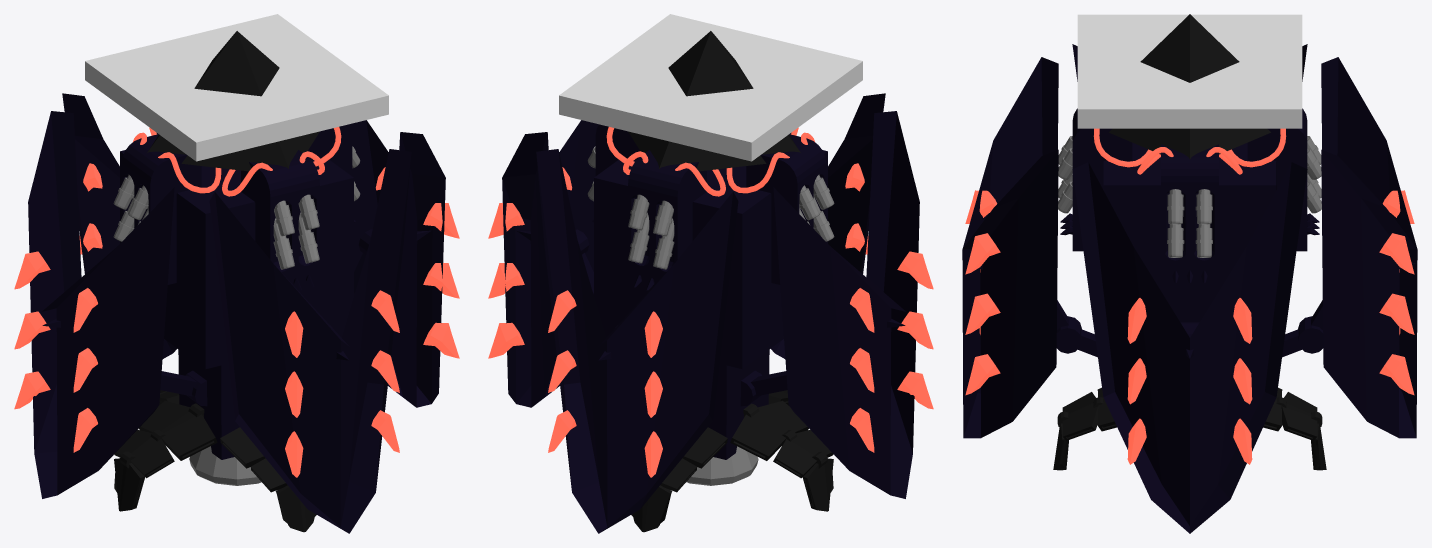
Rendered from BaseAmpli.fbx.
3 renders of one model, left to right at view 1: azimuth 30°, elevation 25°; view 2: azimuth 150°, elevation 25°; view 3: azimuth 270°, elevation 25°, orthographic.
Parts seen in each view (by area): view 1: shild2.001, BoolHead.001; view 2: shild2.001, BoolHead.001; view 3: shild2.001, BoolHead.001.
Boxes of the visible parts, box(x1,y1,x2,y2) form: shild2.001: box(14, 31, 459, 533); BoolHead.001: box(85, 14, 388, 161); shild2.001: box(488, 31, 933, 533); BoolHead.001: box(559, 14, 862, 161); shild2.001: box(962, 14, 1417, 533); BoolHead.001: box(1077, 14, 1302, 128).
Bounding box in the file's own units: 789 × 872 × 789.
